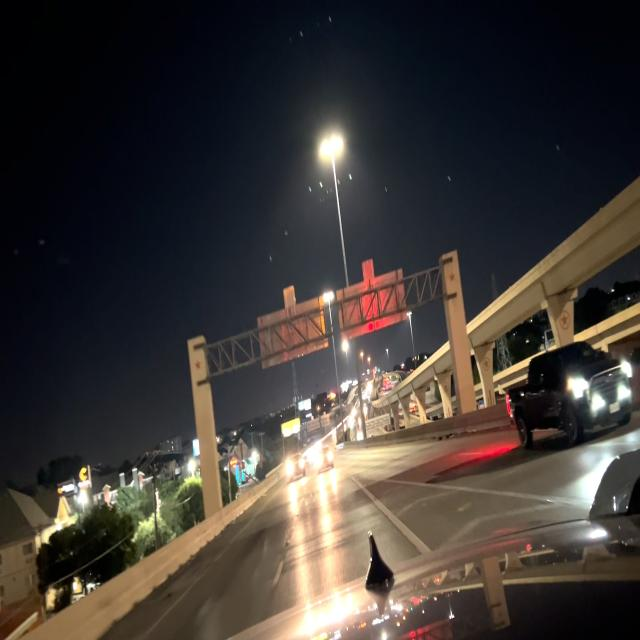back-of-sign: (258, 283, 328, 374), (337, 259, 407, 342), (234, 436, 249, 465)
